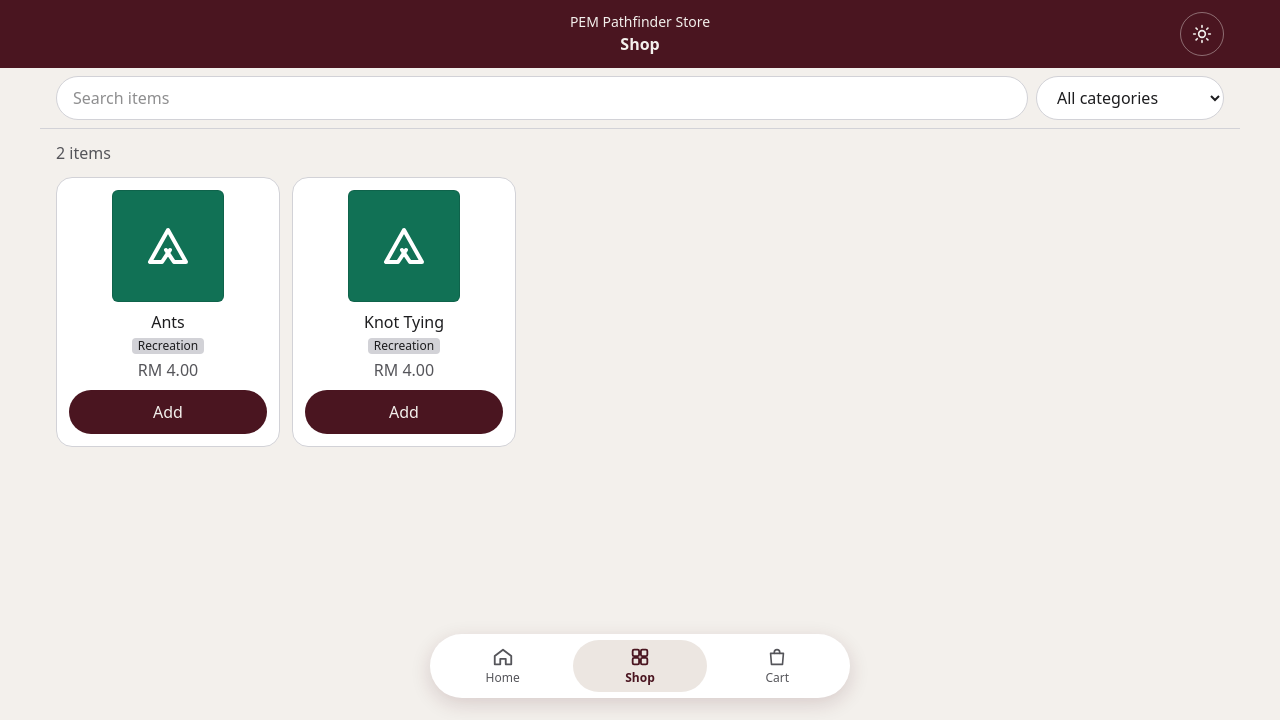
Test: App › opens the cart from the Cart tab with its heading focused and the title changed
Click the button with aria-label "Add Knot Tying".
click(404, 412)  # box x1=305 y1=390 x2=503 y2=434
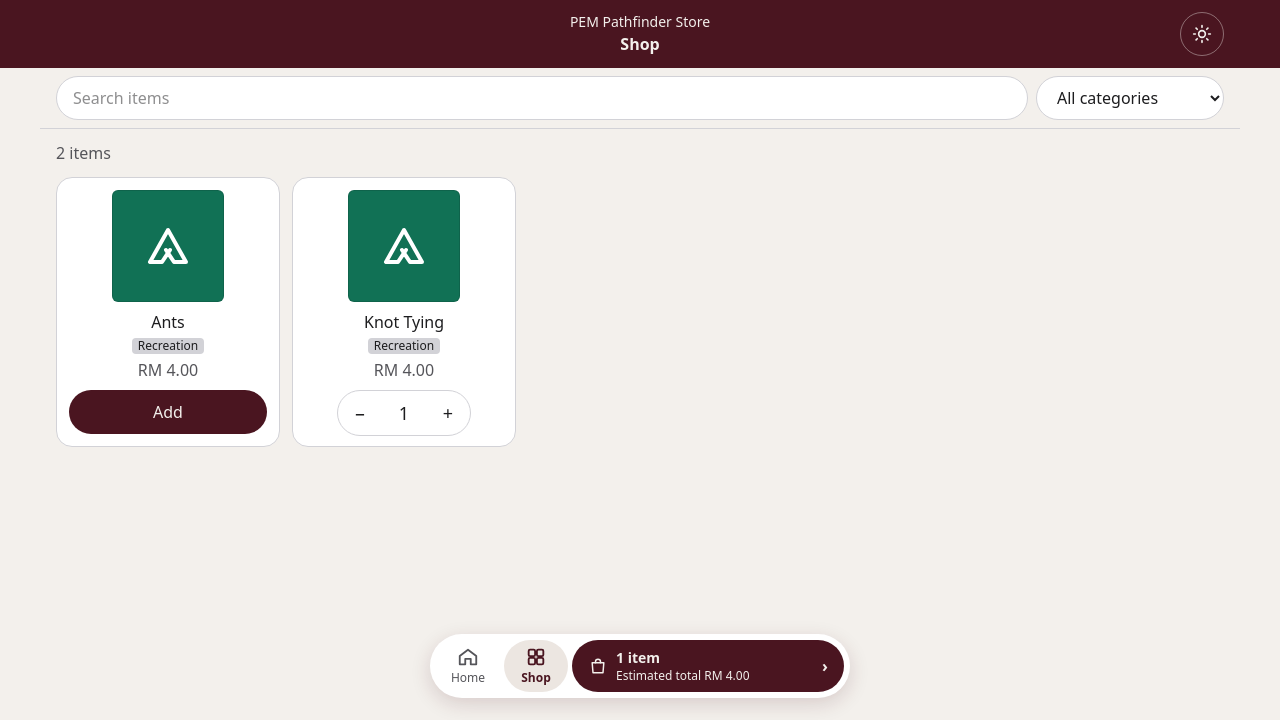
Click the link with aria-label "Cart, ".
click(708, 666)  # box x1=572 y1=640 x2=844 y2=692
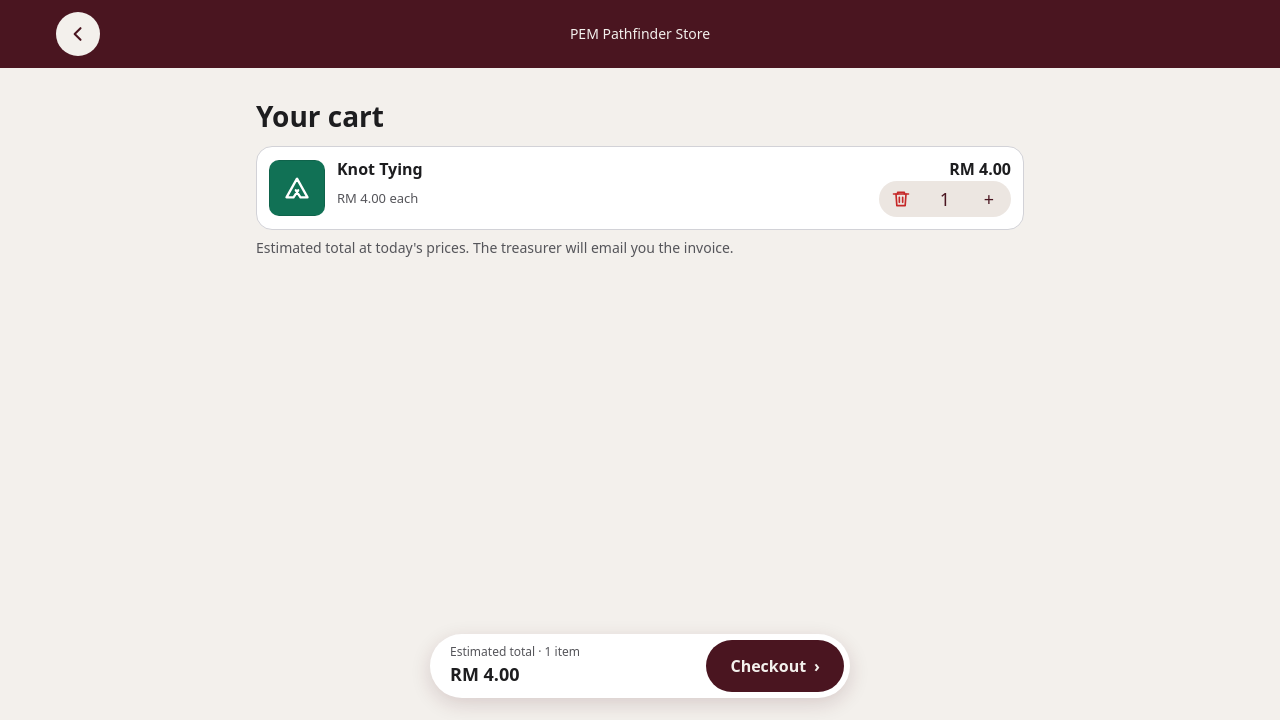
Expected: the navigation bar "Main" is gone
Expected: the text "Estimated total · 1 item" is shown, x1=450 y1=644 x2=580 y2=660
